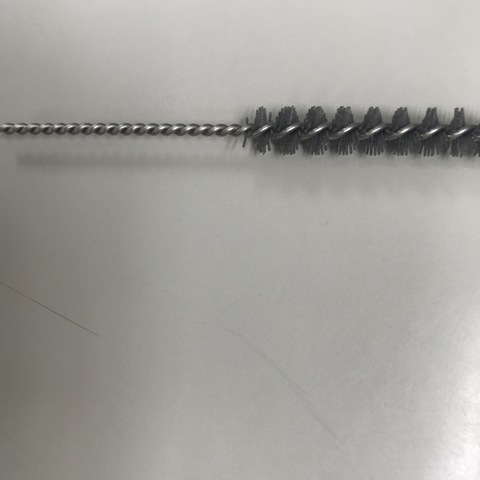Twist Brush-A: (1, 104, 477, 163)
